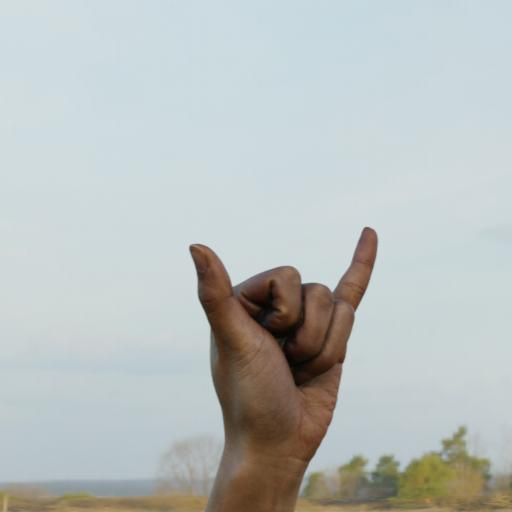Y: (159, 155, 454, 469)
